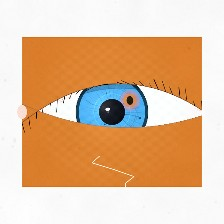foreign_body_visible: (29, 108, 61, 133)
